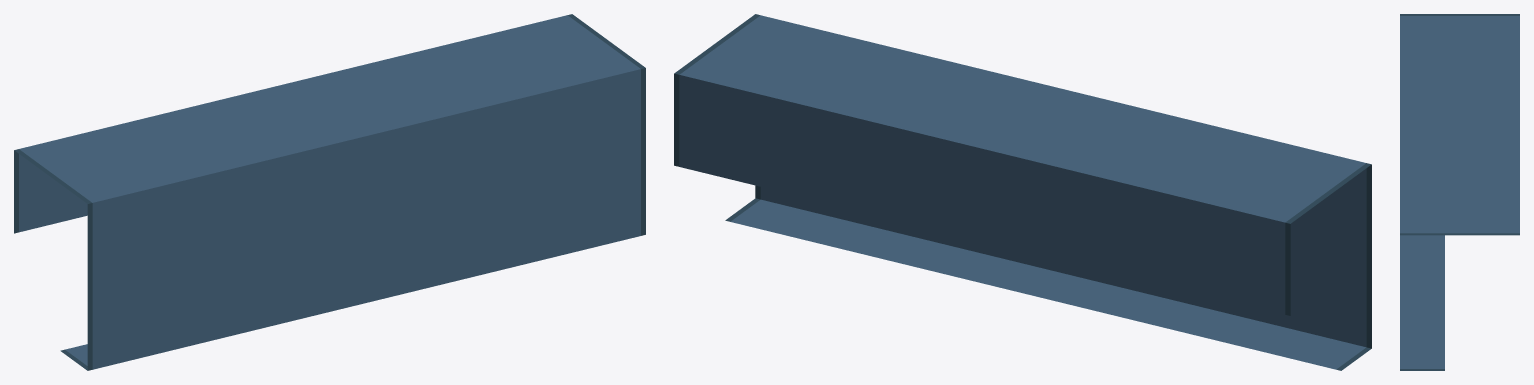
File: M_RoofTrim350Marine20-1.FBX
3 views of the same model, side by side, from view 1: azimuth 30°, elevation 25°; view 2: azimuth 150°, elevation 25°; view 3: azimuth 270°, elevation 25° (orthographic). The views are drawn at different scales.
Parts seen in each view (by area): view 1: M_RoofTrim350Marine20-1; view 2: M_RoofTrim350Marine20-1; view 3: M_RoofTrim350Marine20-1.
Boxes of the visible parts, x1,y1,x2,y2 form: M_RoofTrim350Marine20-1: [14, 14, 645, 370]; M_RoofTrim350Marine20-1: [674, 14, 1371, 370]; M_RoofTrim350Marine20-1: [1400, 14, 1519, 370].
Bounding box in the file's own units: 3.5 × 1 × 0.8.
